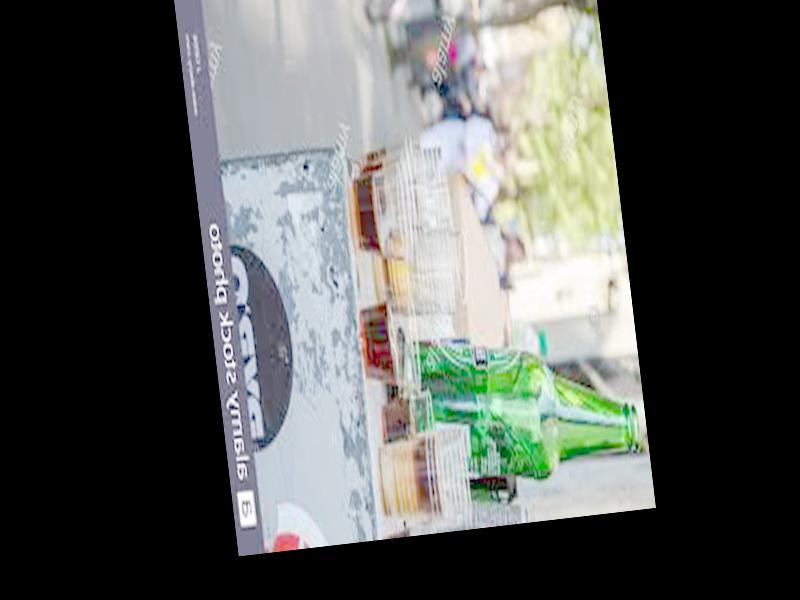Beer: (386, 313, 643, 498)
